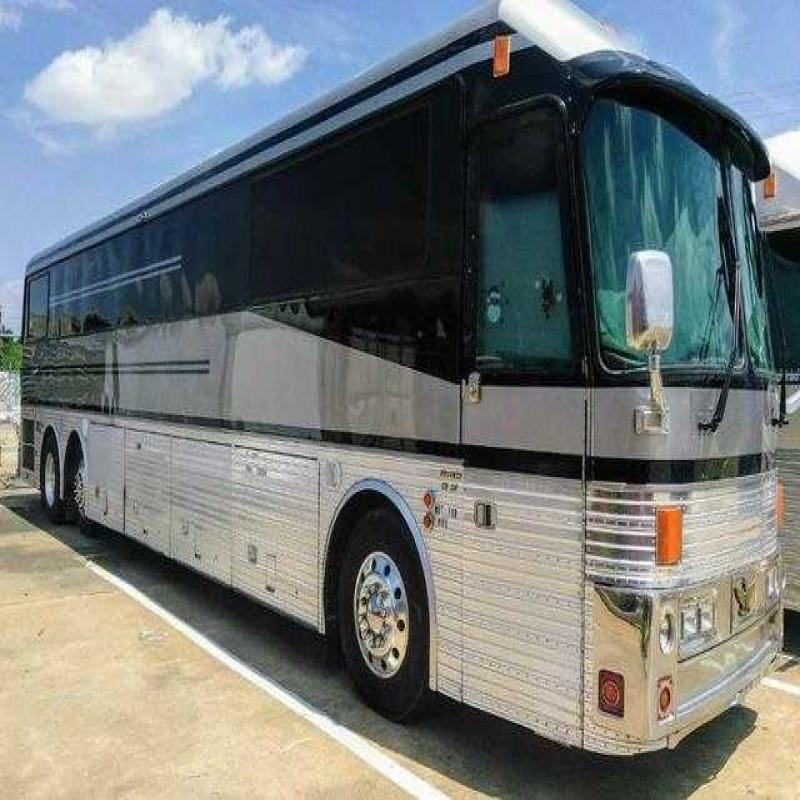bus: (5, 6, 791, 764)
